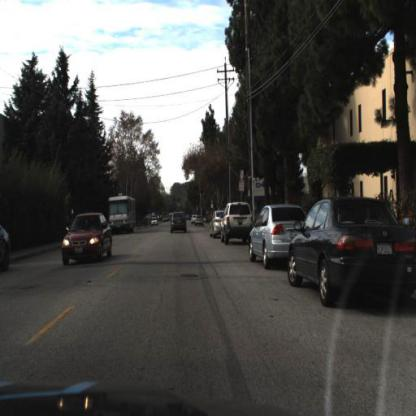car: (288, 194, 415, 313), (249, 204, 303, 268), (60, 211, 114, 270), (221, 201, 257, 243), (209, 211, 225, 242), (170, 209, 189, 233), (195, 213, 208, 231)
truck: (108, 190, 139, 235)
